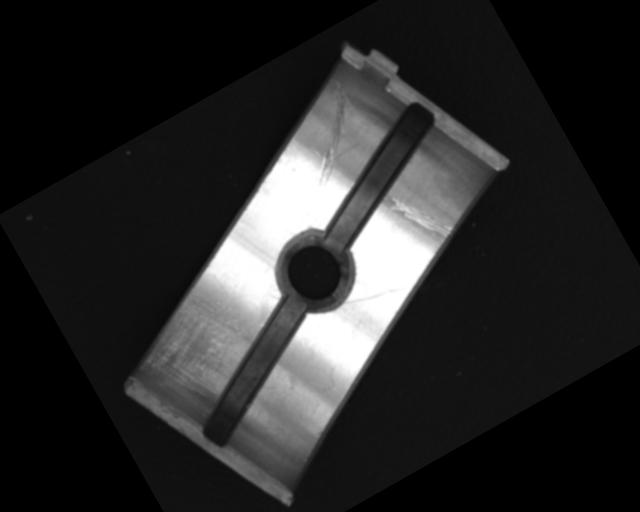gap: (164, 291, 344, 451), (291, 99, 468, 252)
hole: (260, 216, 371, 328)
nick: (276, 77, 381, 188), (383, 175, 457, 257), (342, 267, 416, 322)
scratch: (116, 274, 272, 424)
